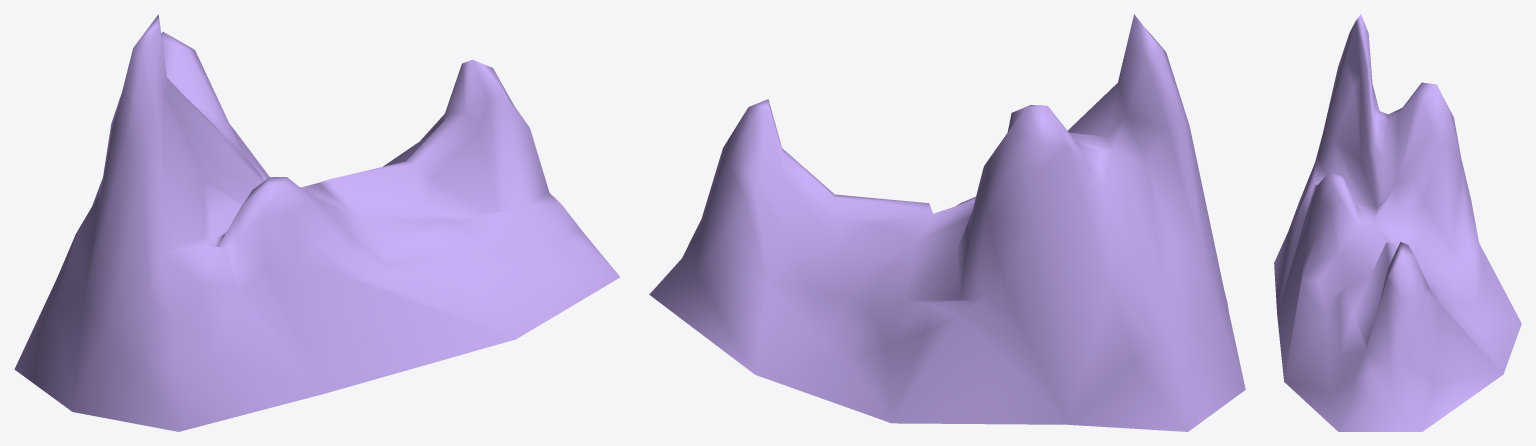
Rendered from ytlds_Object (3).fbx.
3 renders of one model, left to right at view 1: azimuth 30°, elevation 25°; view 2: azimuth 150°, elevation 25°; view 3: azimuth 270°, elevation 25°, orthographic. The views are drawn at different scales.
Visible parts, largest first — view 1: Object03; view 2: Object03; view 3: Object03.
Boxes of the visible parts, x1,y1,x2,y2 form: Object03: (14, 14, 620, 431); Object03: (649, 14, 1245, 431); Object03: (1274, 14, 1521, 431).
Size of the model in its own units: 323 by 206 by 176.
